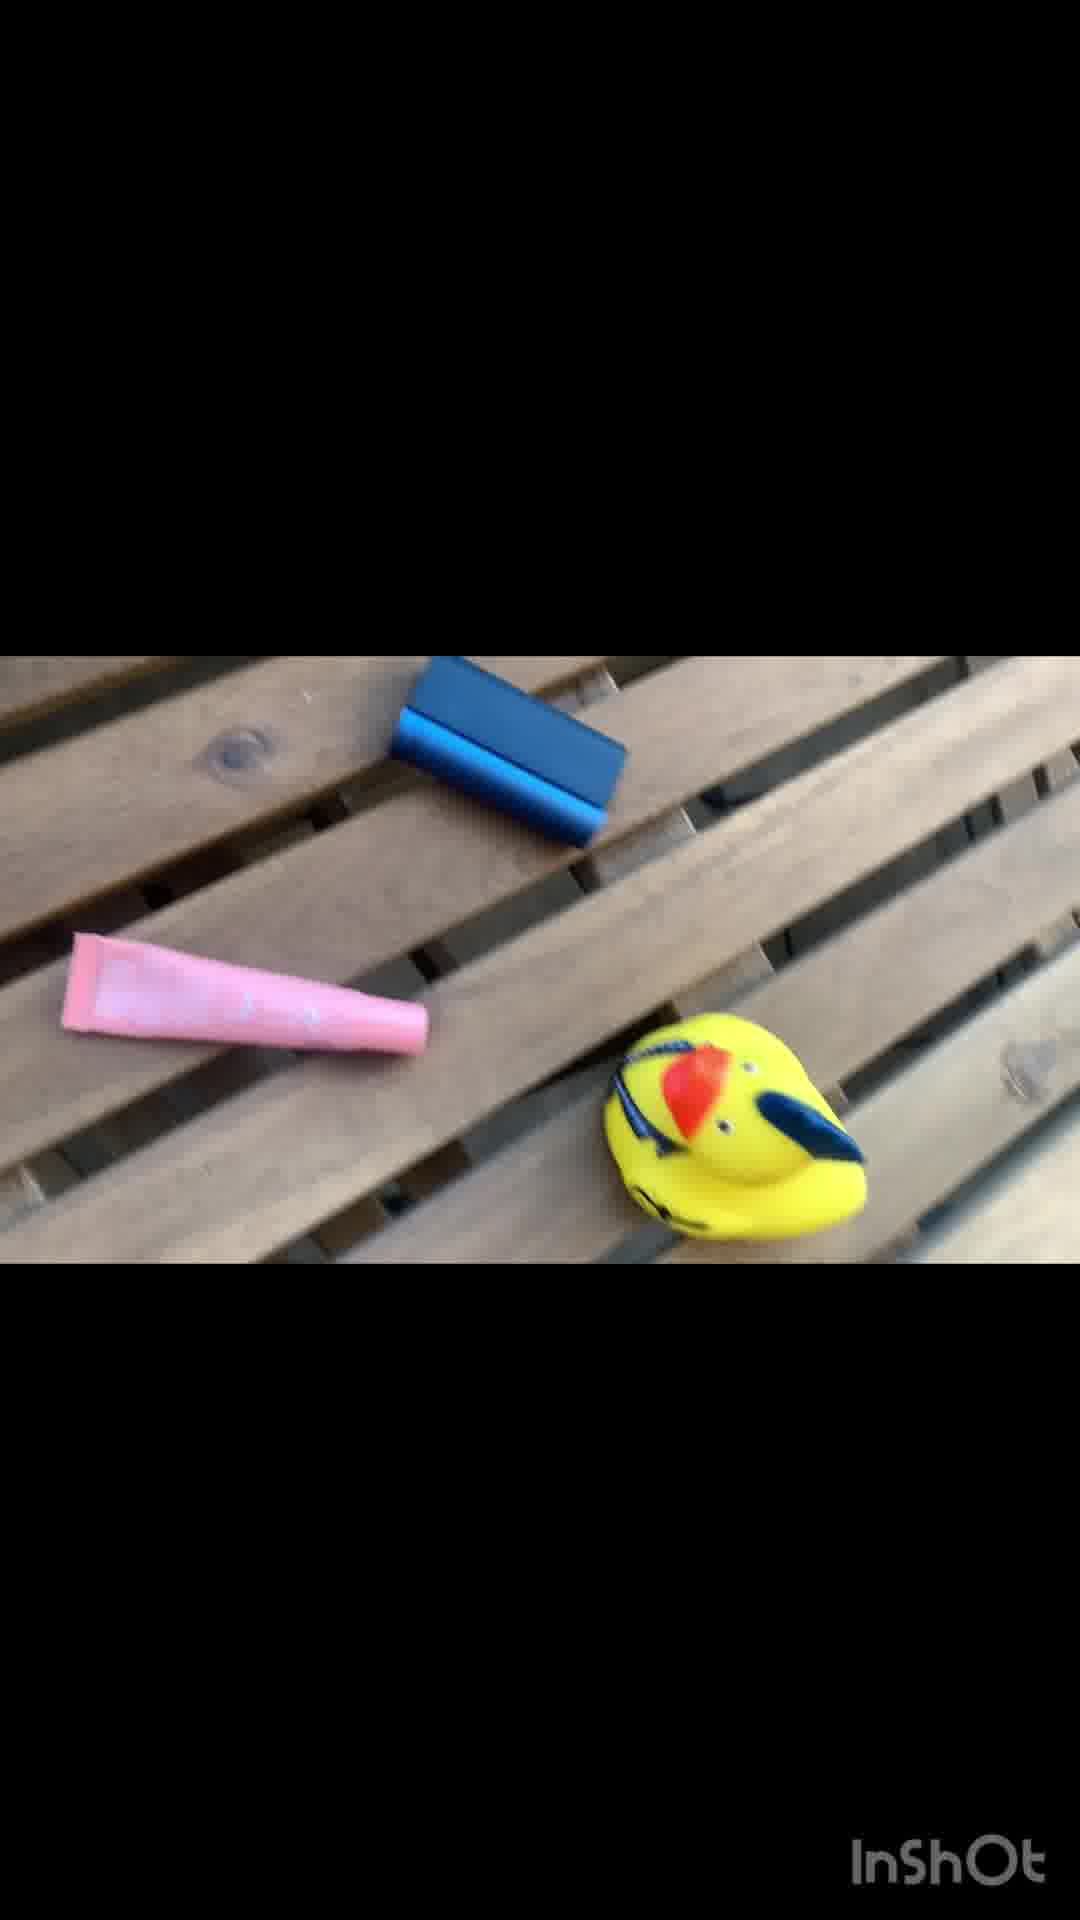duck: (600, 1011, 874, 1244)
glo: (396, 659, 633, 847)
lip balm: (59, 931, 426, 1064)
